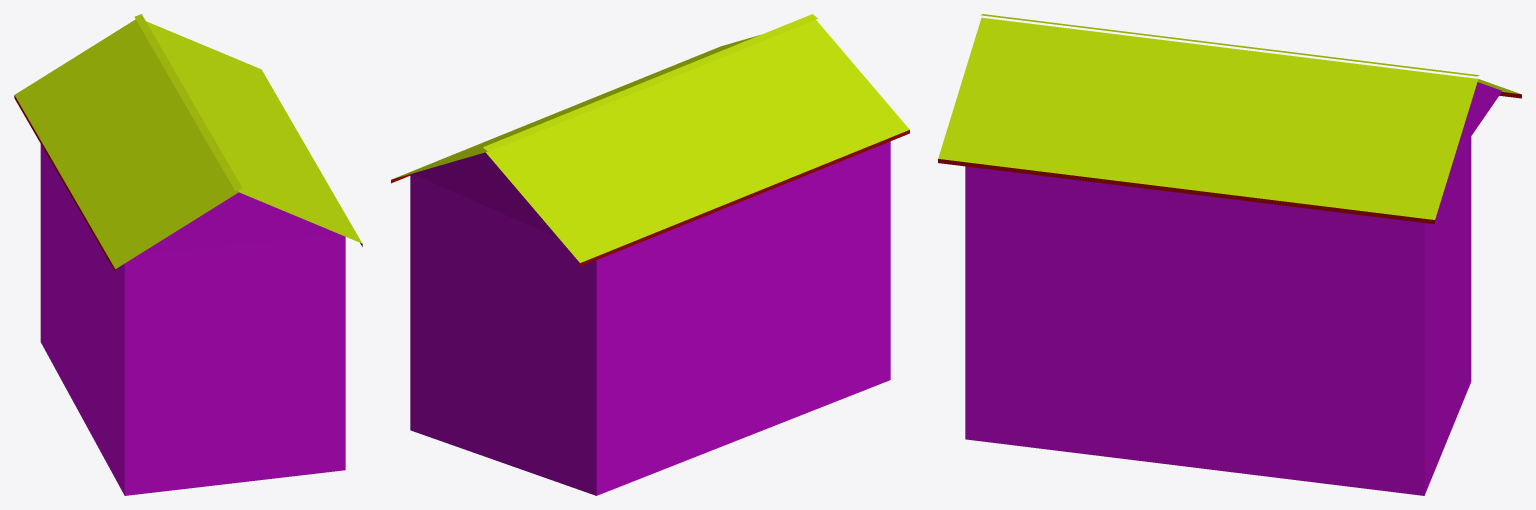
The model's file is rmc_78.glb.
3 views of the same model, side by side, from view 1: azimuth 30°, elevation 25°; view 2: azimuth 150°, elevation 25°; view 3: azimuth 270°, elevation 25° (orthographic). The views are drawn at different scales.
Visible parts, largest first — view 1: rmc_78; view 2: rmc_78; view 3: rmc_78.
Part boxes in pixels (box(x1,y1,x2,y2)): rmc_78: box(14, 14, 362, 495); rmc_78: box(391, 14, 909, 495); rmc_78: box(938, 14, 1521, 495).
Size of the model in its own units: 11.38 by 10.4 by 15.01.
